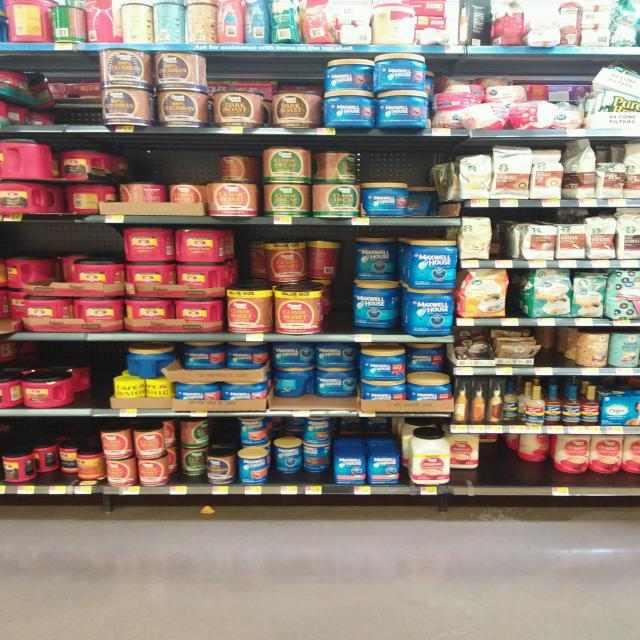empty: (23, 58, 102, 126), (63, 348, 116, 405)
